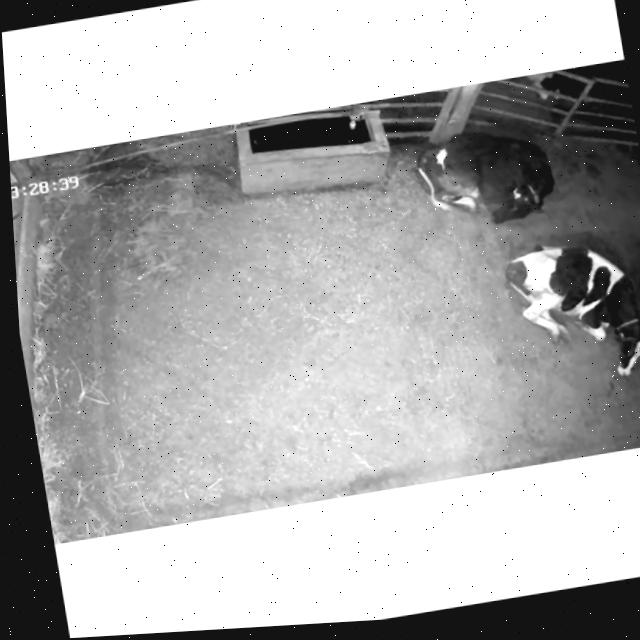lay: (486, 214, 640, 401), (400, 108, 565, 239)
